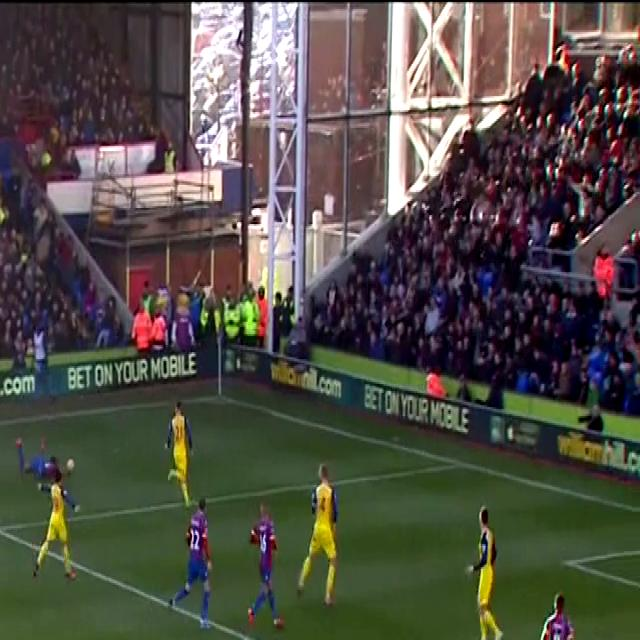ball: (64, 454, 76, 473)
soccer-player: (298, 456, 352, 616), (455, 501, 515, 640), (168, 497, 222, 634), (235, 499, 287, 639), (29, 478, 88, 593), (162, 396, 202, 506), (12, 428, 62, 484), (525, 592, 582, 640)
